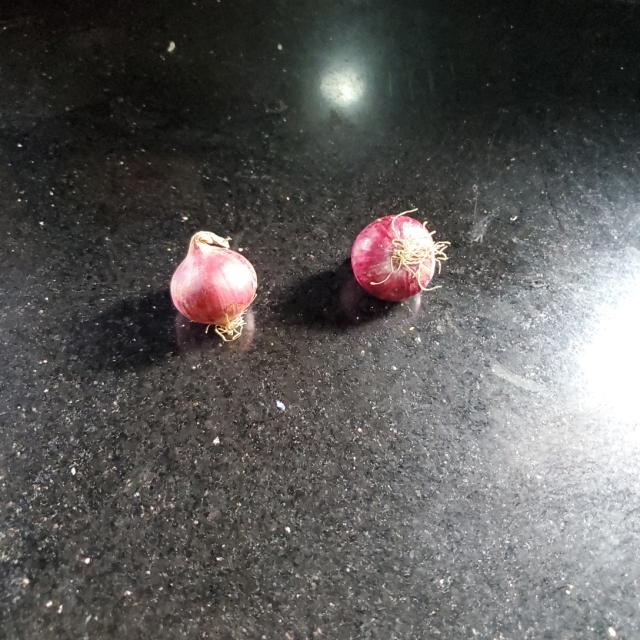onion: (170, 235, 256, 325), (352, 214, 439, 301)
